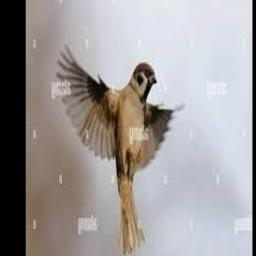Sparrow: (58, 44, 185, 255)
